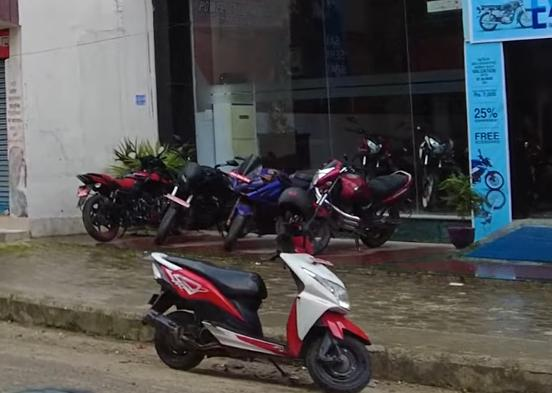scooter: (141, 219, 382, 393)
